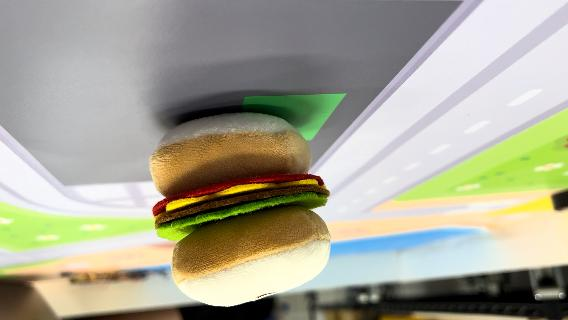sandwich: (146, 109, 336, 307)
